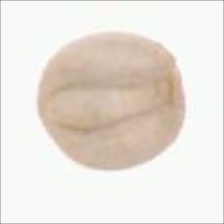L5: (35, 75, 177, 134), (163, 53, 191, 118)
L6: (32, 30, 190, 175)
